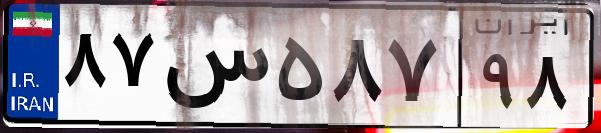5: (270, 28, 330, 110)
7: (385, 28, 445, 110), (110, 28, 158, 98)
8: (330, 28, 385, 110), (57, 26, 110, 100), (525, 38, 570, 115)
9: (475, 38, 525, 113)
س: (158, 20, 270, 120)
